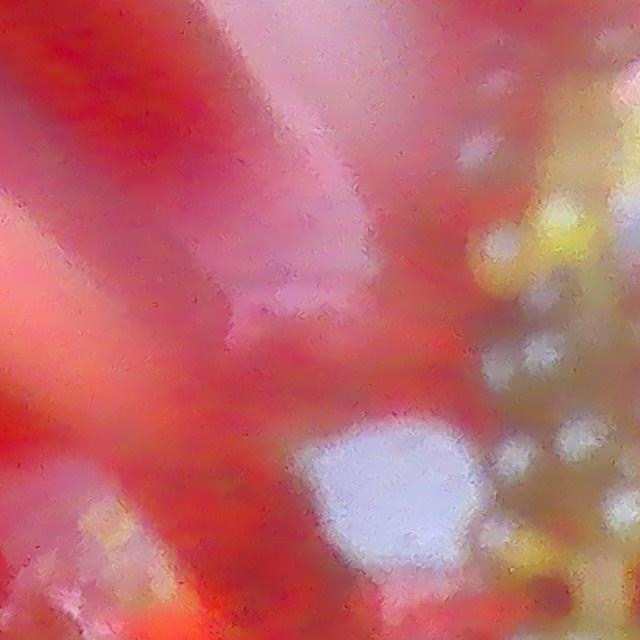SeaGrape: (463, 216, 550, 299), (529, 181, 601, 271), (476, 502, 553, 574)
